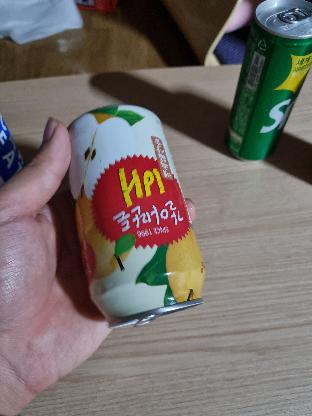Can: (67, 104, 206, 328), (223, 3, 312, 162)
